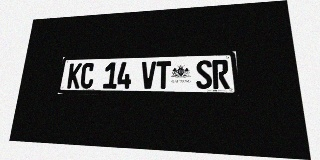1: (103, 62, 118, 89)
4: (117, 62, 132, 89)
C: (80, 63, 95, 89)
K: (67, 63, 82, 89)
R: (212, 60, 230, 89)
S: (196, 60, 212, 89)
T: (156, 61, 171, 89)
V: (141, 61, 156, 89)
